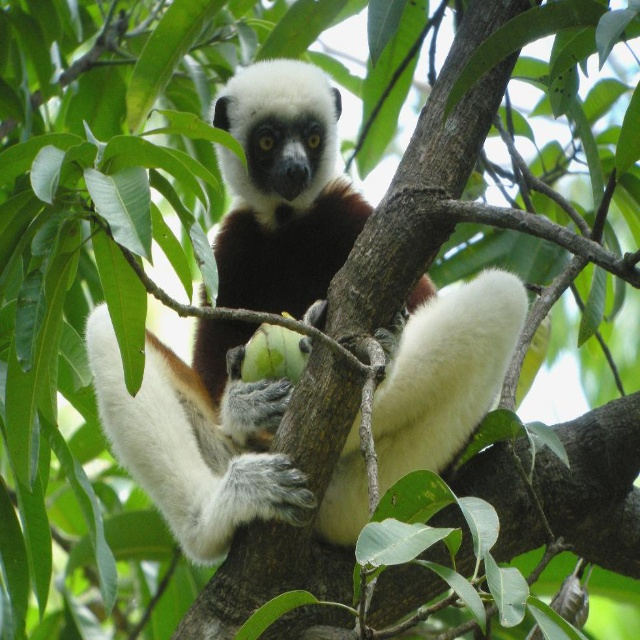Monkey: (82, 56, 529, 569)
